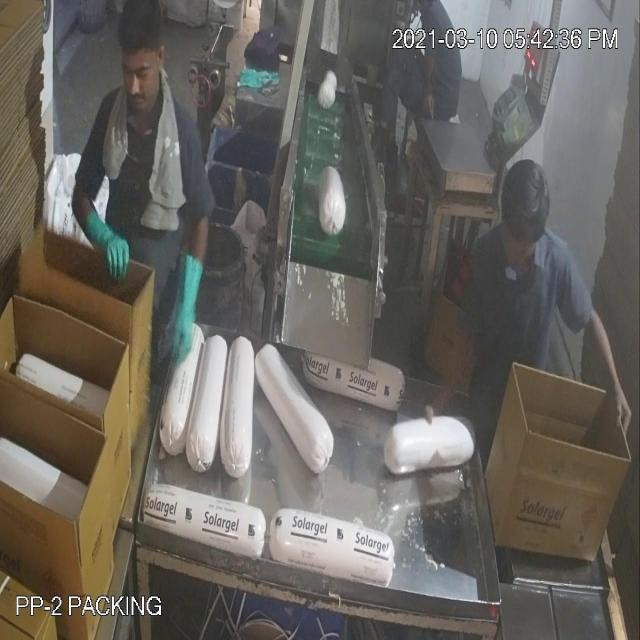Gloves: (59, 107, 600, 368)
